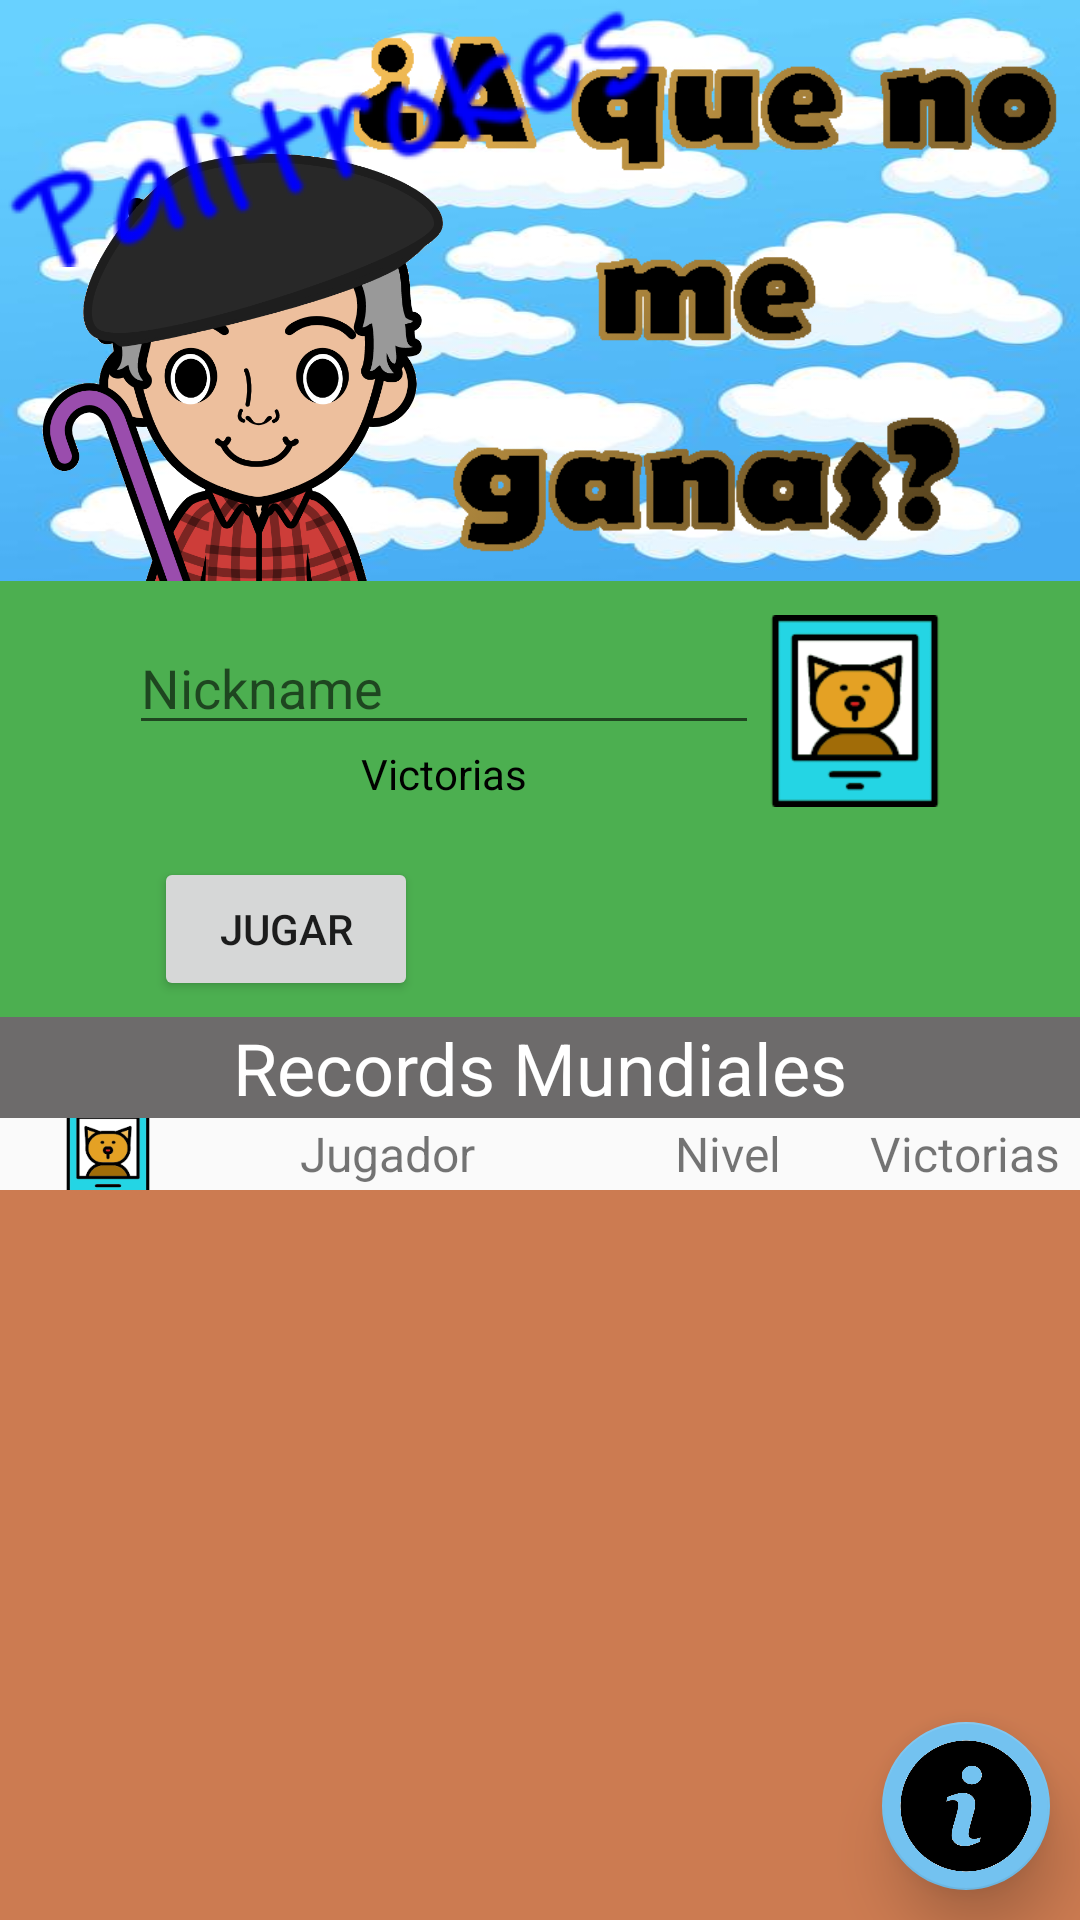

Named icons in this screenshot (1080 × 1920) and their centers, point (x, y):
info: point (966, 1806)
